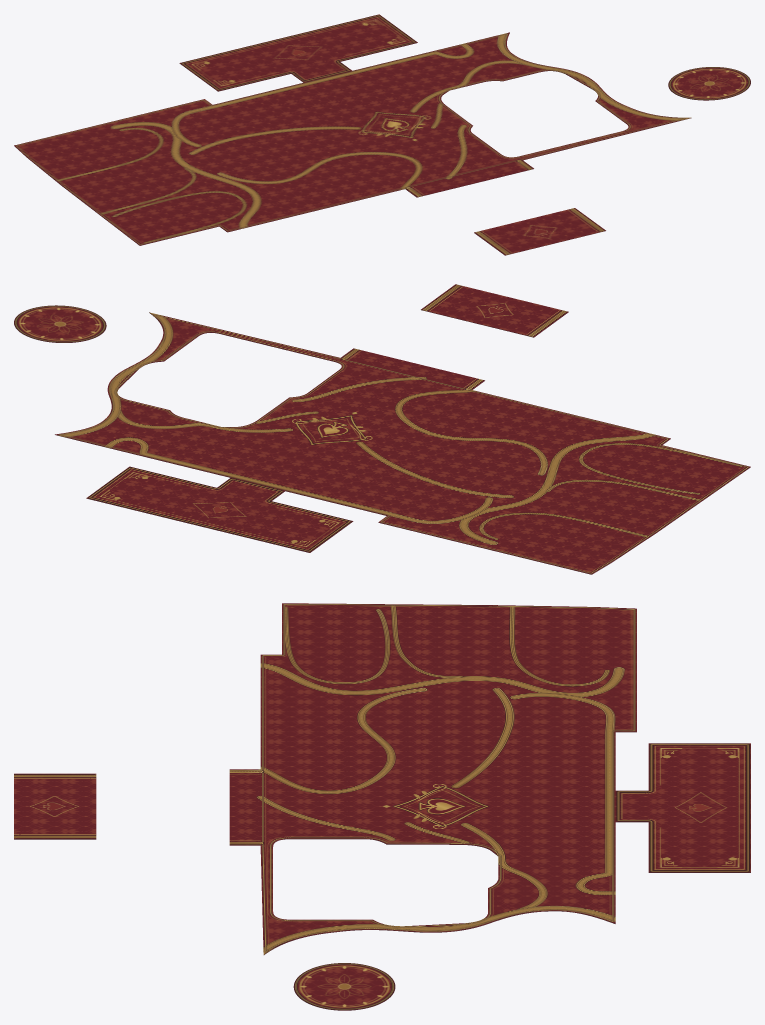
File: casino_carpet.glb
3 views of the same model, one above another, from view 1: azimuth 30°, elevation 25°; view 2: azimuth 150°, elevation 25°; view 3: azimuth 270°, elevation 25° (orthographic). The views are drawn at different scales.
Visible parts, largest first — view 1: Carpet_MainGamingFloor, Carpet_VIPRoom, Carpet_ExteriorRunner, Carpet_PianoRug, Carpet_EntranceThreshold; view 2: Carpet_MainGamingFloor, Carpet_VIPRoom, Carpet_ExteriorRunner, Carpet_PianoRug, Carpet_EntranceThreshold; view 3: Carpet_MainGamingFloor, Carpet_VIPRoom, Carpet_ExteriorRunner, Carpet_PianoRug, Carpet_EntranceThreshold.
Boxes of the visible parts, x1,y1,x2,y2 form: Carpet_MainGamingFloor: (14, 32, 691, 245); Carpet_VIPRoom: (179, 14, 417, 91); Carpet_ExteriorRunner: (474, 208, 605, 255); Carpet_PianoRug: (668, 67, 750, 100); Carpet_EntranceThreshold: (405, 160, 533, 197); Carpet_MainGamingFloor: (55, 312, 750, 574); Carpet_VIPRoom: (86, 466, 353, 552); Carpet_ExteriorRunner: (421, 284, 568, 337); Carpet_PianoRug: (14, 305, 106, 342); Carpet_EntranceThreshold: (341, 348, 484, 389); Carpet_MainGamingFloor: (260, 603, 636, 954); Carpet_VIPRoom: (615, 743, 750, 872); Carpet_ExteriorRunner: (14, 773, 96, 839); Carpet_PianoRug: (293, 963, 395, 1010); Carpet_EntranceThreshold: (229, 769, 260, 845).
Bounding box in the file's own units: 26.16 × 0.014 × 20.02.
2 materials, 1 textured.
